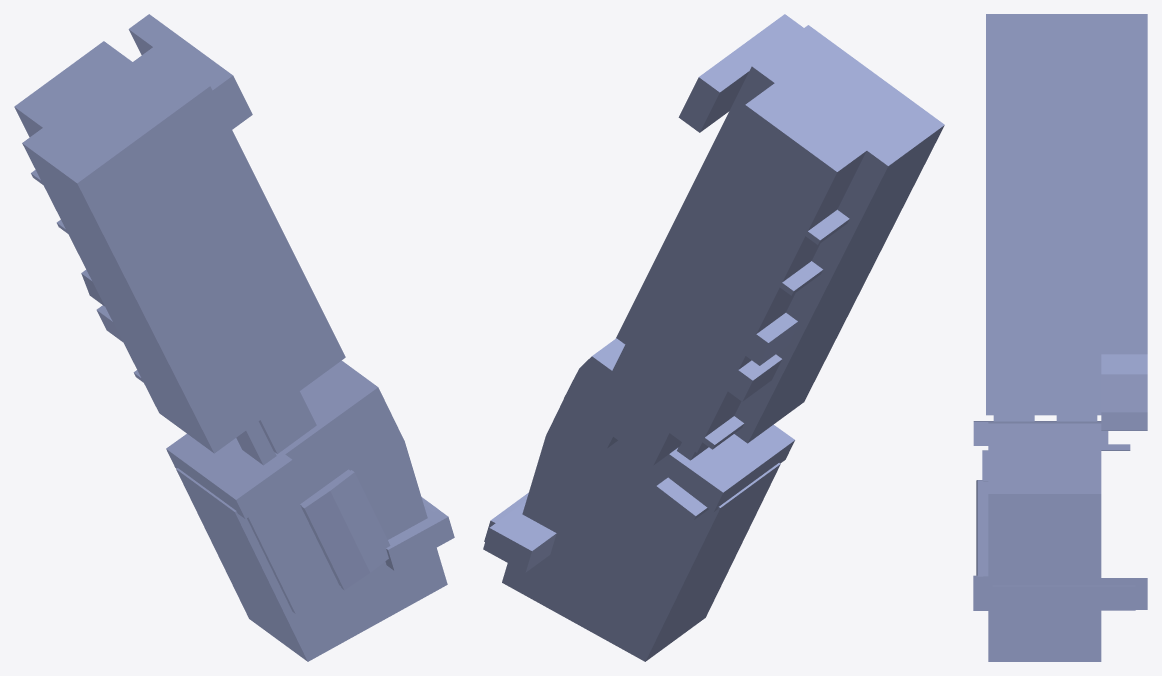
The picture shows the model from 3 angles, left to right: view 1: azimuth 30°, elevation 25°; view 2: azimuth 150°, elevation 25°; view 3: azimuth 270°, elevation 25°; orthographic projection. The views are drawn at different scales.
Parts seen in each view (by area): view 1: E2A; view 2: E2A; view 3: E2A.
Part boxes in pixels (bbox=[...]): E2A: bbox=[14, 14, 454, 661]; E2A: bbox=[483, 14, 944, 661]; E2A: bbox=[973, 14, 1147, 661].
Size of the model in its own units: 49.62 by 77.3 by 20.94.
